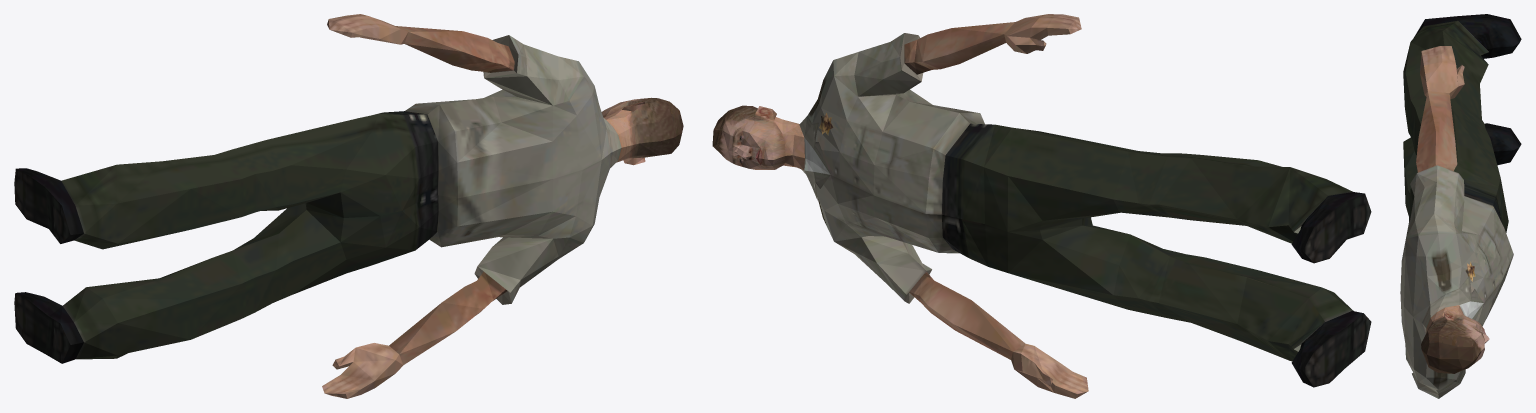
File: dsherna.obj
The picture shows the model from 3 angles, left to right: view 1: azimuth 30°, elevation 25°; view 2: azimuth 150°, elevation 25°; view 3: azimuth 270°, elevation 25°; orthographic projection. The views are drawn at different scales.
Visible parts, largest first — view 1: noname_0; view 2: noname_0; view 3: noname_0.
Part boxes in pixels (box(x1,y1,x2,y2)): noname_0: box(14, 14, 683, 398); noname_0: box(712, 14, 1371, 398); noname_0: box(1400, 14, 1521, 398).
Bounding box in the file's own units: 1.83 × 1.03 × 0.3476.
Materials: 1 (1 with a texture image).
